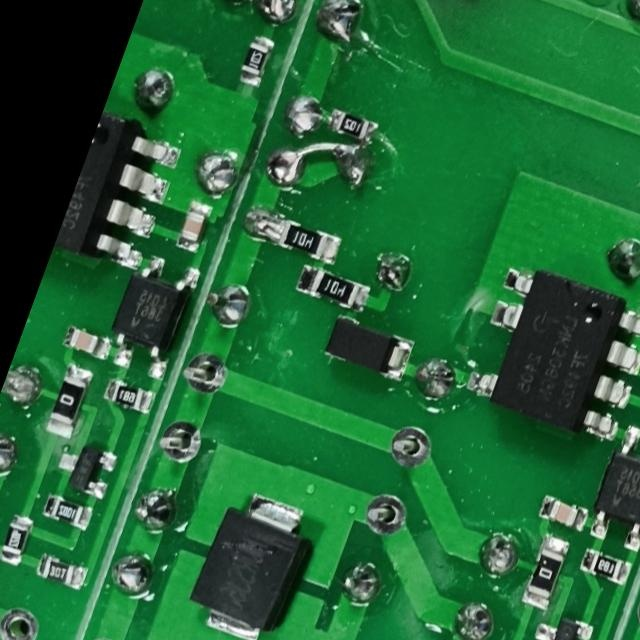chip-capacitor: (171, 197, 214, 256), (533, 491, 589, 533), (58, 322, 114, 362)
chip-resistor: (515, 530, 573, 614), (289, 260, 371, 316), (40, 361, 96, 443), (271, 217, 343, 267), (572, 545, 633, 590), (233, 30, 276, 90), (30, 550, 89, 593), (35, 491, 94, 534), (98, 375, 158, 417), (320, 104, 378, 146), (0, 509, 37, 569)
diode: (178, 481, 322, 640), (318, 309, 416, 384)
ic: (459, 255, 640, 448), (53, 106, 187, 276), (97, 248, 203, 384), (580, 418, 640, 555)
transistor: (49, 435, 119, 501), (524, 605, 596, 640)
